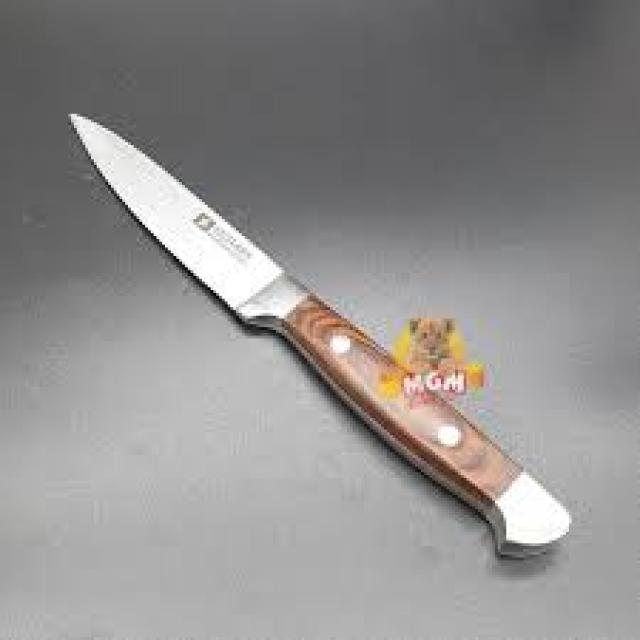Knife: (68, 114, 572, 555)
